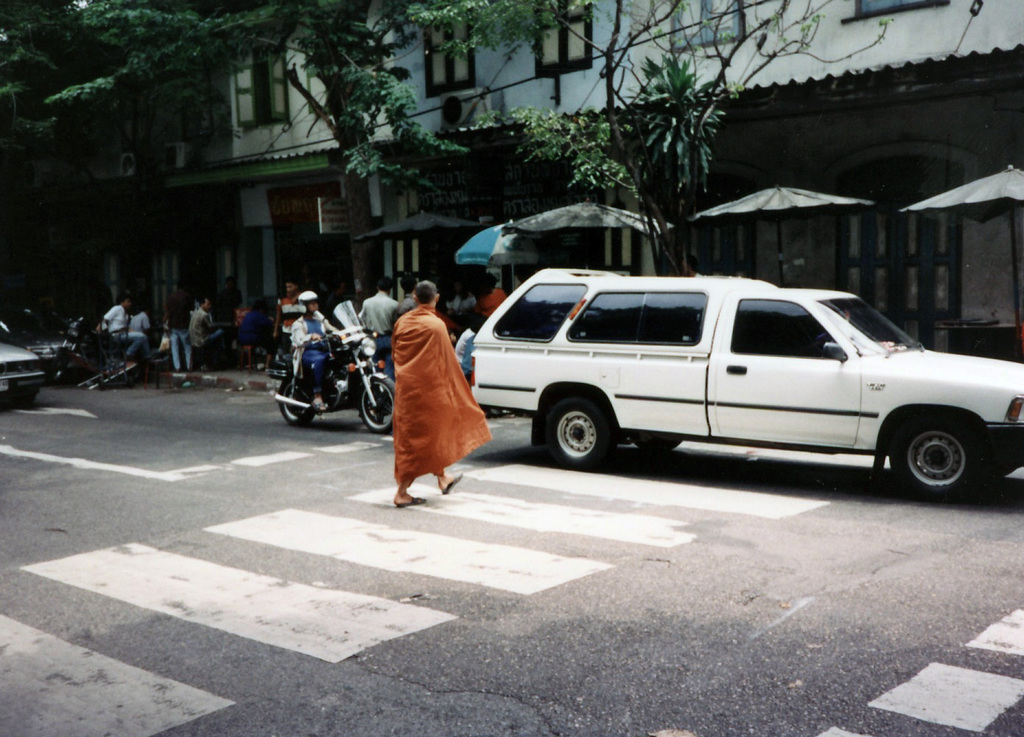Car: (466, 261, 1023, 504), (0, 308, 82, 405), (0, 331, 48, 402)
